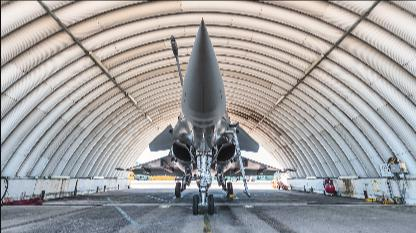RQ4: (114, 16, 296, 214)
